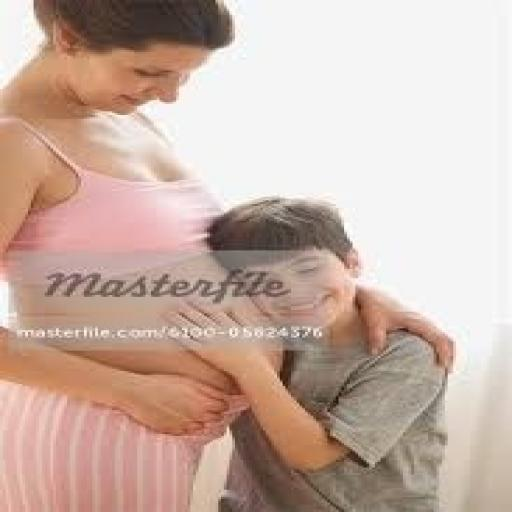hugging: (0, 0, 456, 510)
